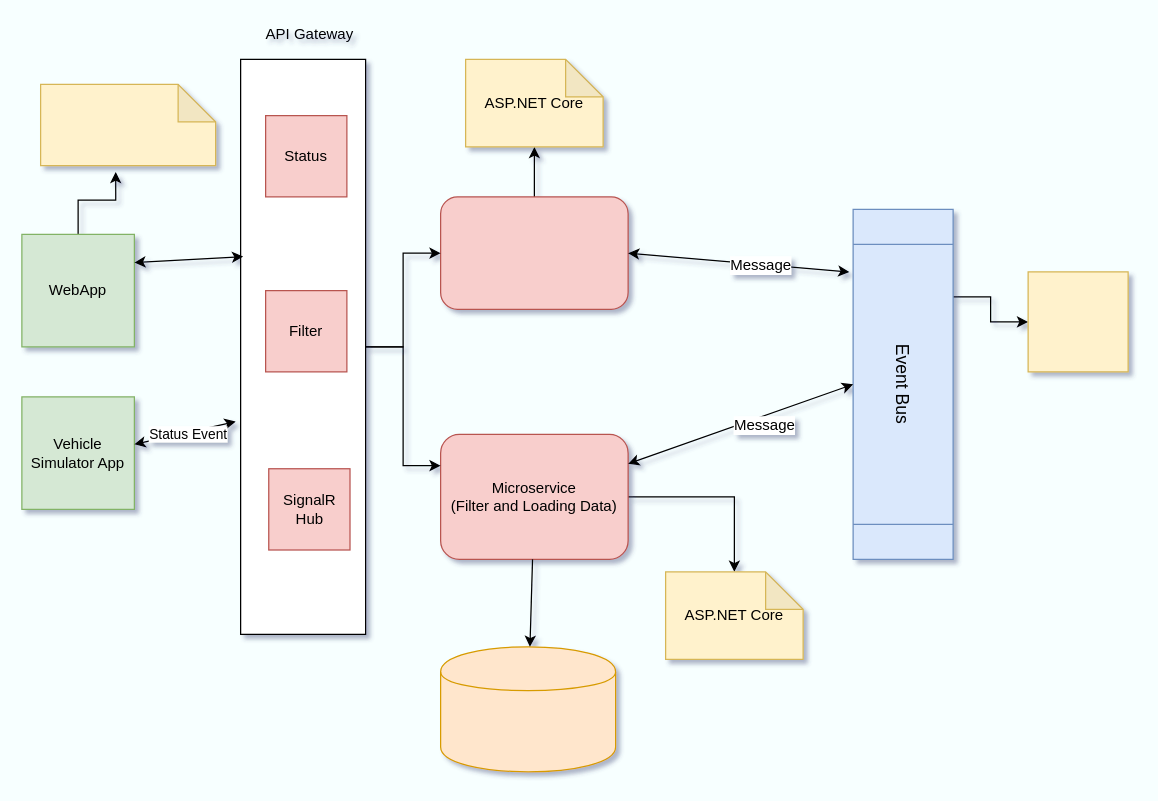
The diagram is 1158 pixels wide and 801 high, and some of its shapes have lost their labels. Here are the shapes that lost their labels. From the top down, the centre of each, then its label:
At [127,124]: "ASP.NET Core MVC SignalR".
At [533,252]: "Microservice (Status Management)".
At [1077,321]: "RabbitMQ".
At [527,709]: "In-Memory DB".
